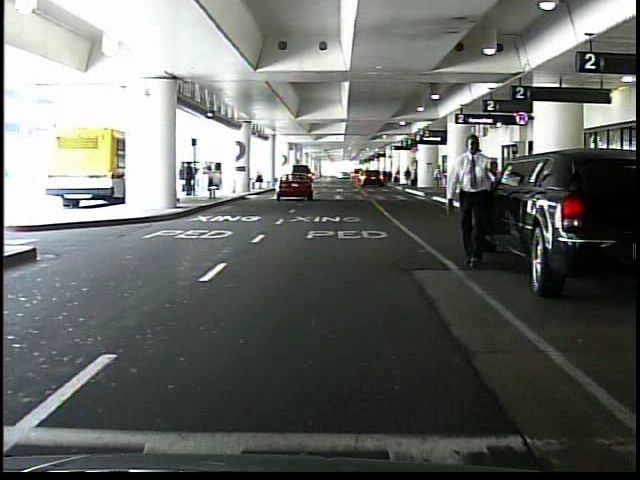person: (455, 128, 505, 278), (184, 160, 198, 197), (432, 164, 445, 191), (405, 167, 414, 189)
